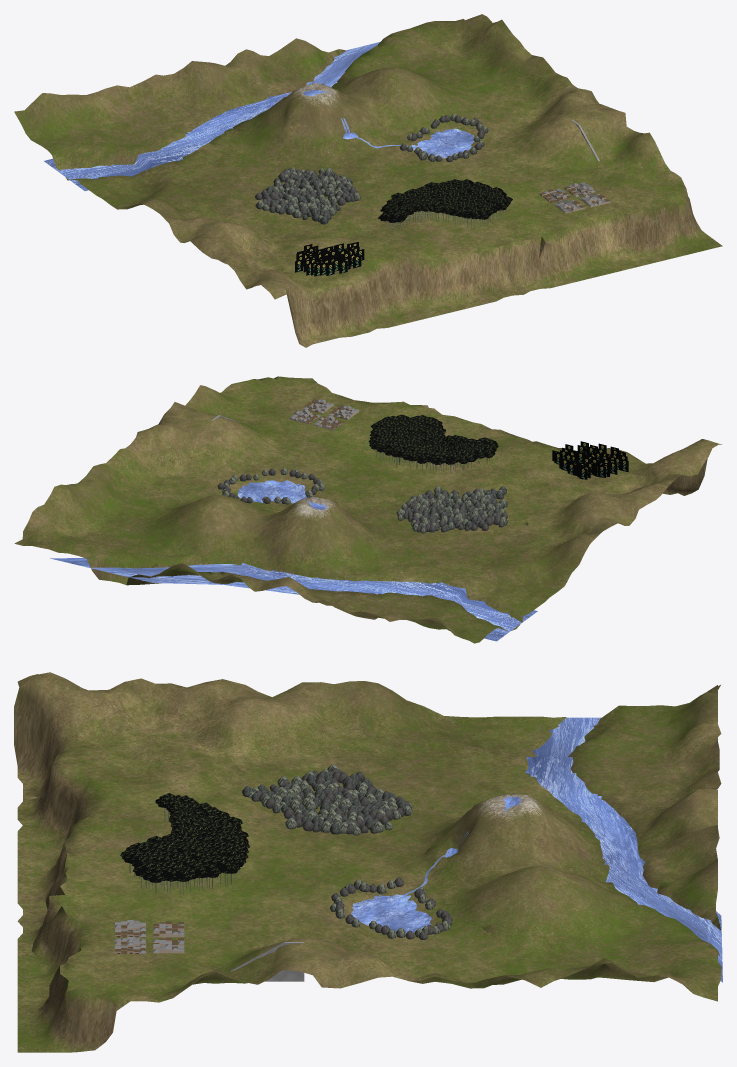
Rendered from gmap.fbx.
3 renders of one model, top to bottom at view 1: azimuth 30°, elevation 25°; view 2: azimuth 150°, elevation 25°; view 3: azimuth 270°, elevation 25°, orthographic. The views are drawn at different scales.
Parts seen in each view (by area): view 1: mesh; view 2: mesh; view 3: mesh.
Part boxes in pixels (x1,y1,x2,y2): mesh: (14,14,722,347); mesh: (14,376,721,643); mesh: (14,672,722,1052).
Size of the model in its own units: 20000 by 3255 by 20045.
Materials: 12 (10 with a texture image).
